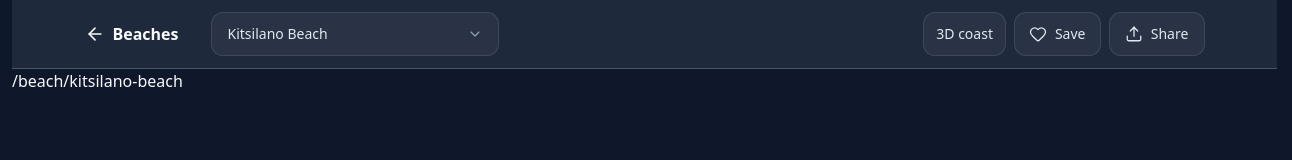
Test: groups beach selection, favorite, and share actions in the header
The image size is (1292, 160).
Expected: the button with aria-label "add kitsilano beach to favorites" is shown, [1014, 12, 1100, 56]
Expected: the button "Share" is shown, [1108, 12, 1204, 56]
Select "English Bay" in the dropdown at (354, 34), box [210, 12, 498, 56]
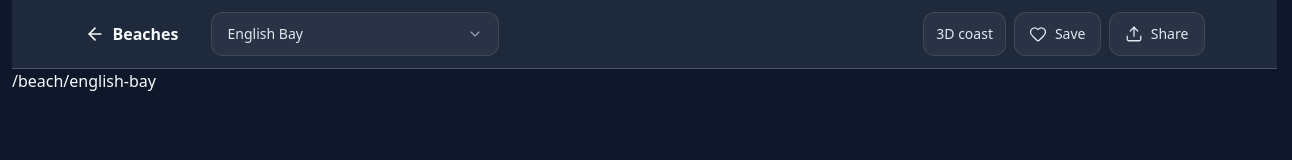
Result: the text "/beach/english-bay" is shown at [12, 70, 156, 92]
